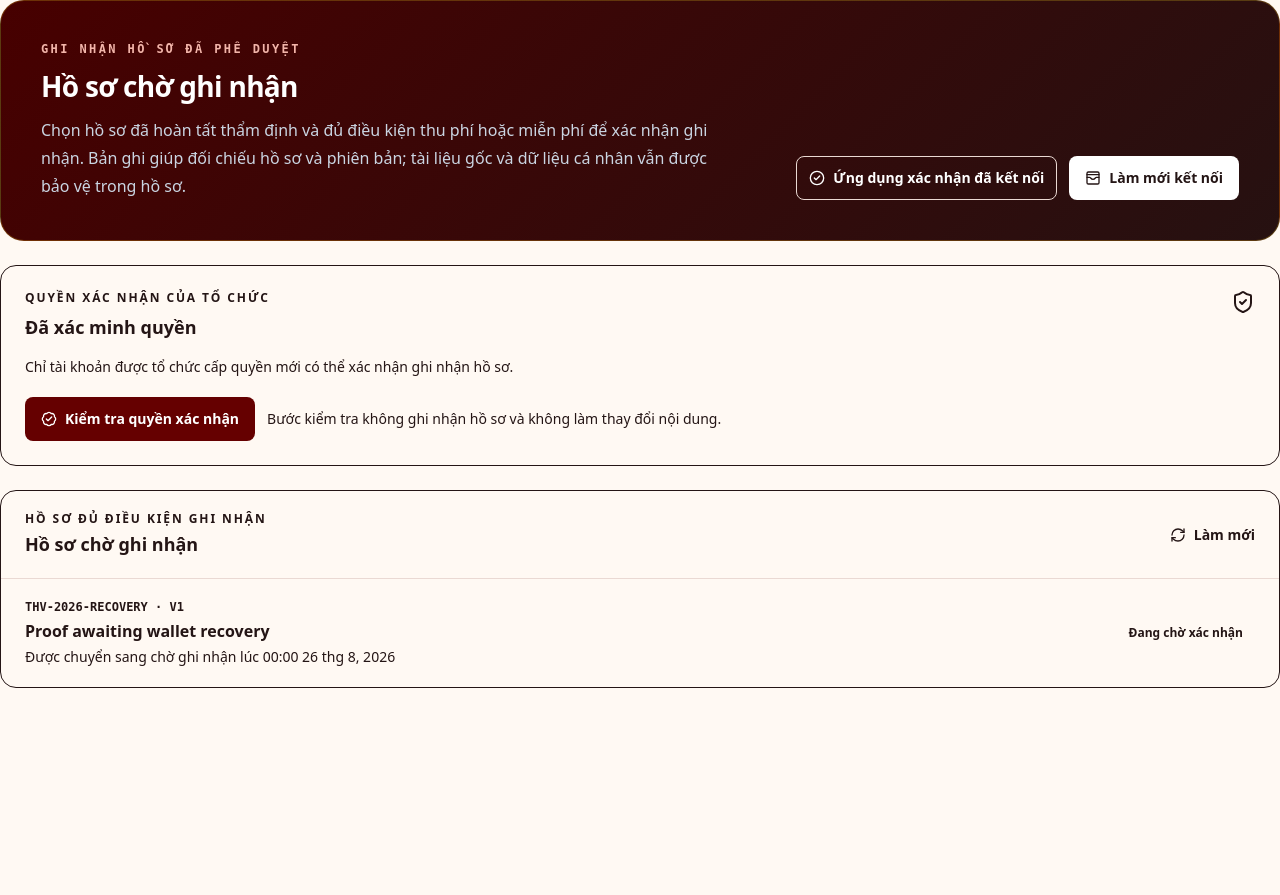
Scenario: BlockchainSigningWorkspace › recovers an already-mined proof after prepare returns a conflict
Click the button "Proof awaiting wallet recovery" at (86, 607), box [1,579,1279,687]
(page scrolled)
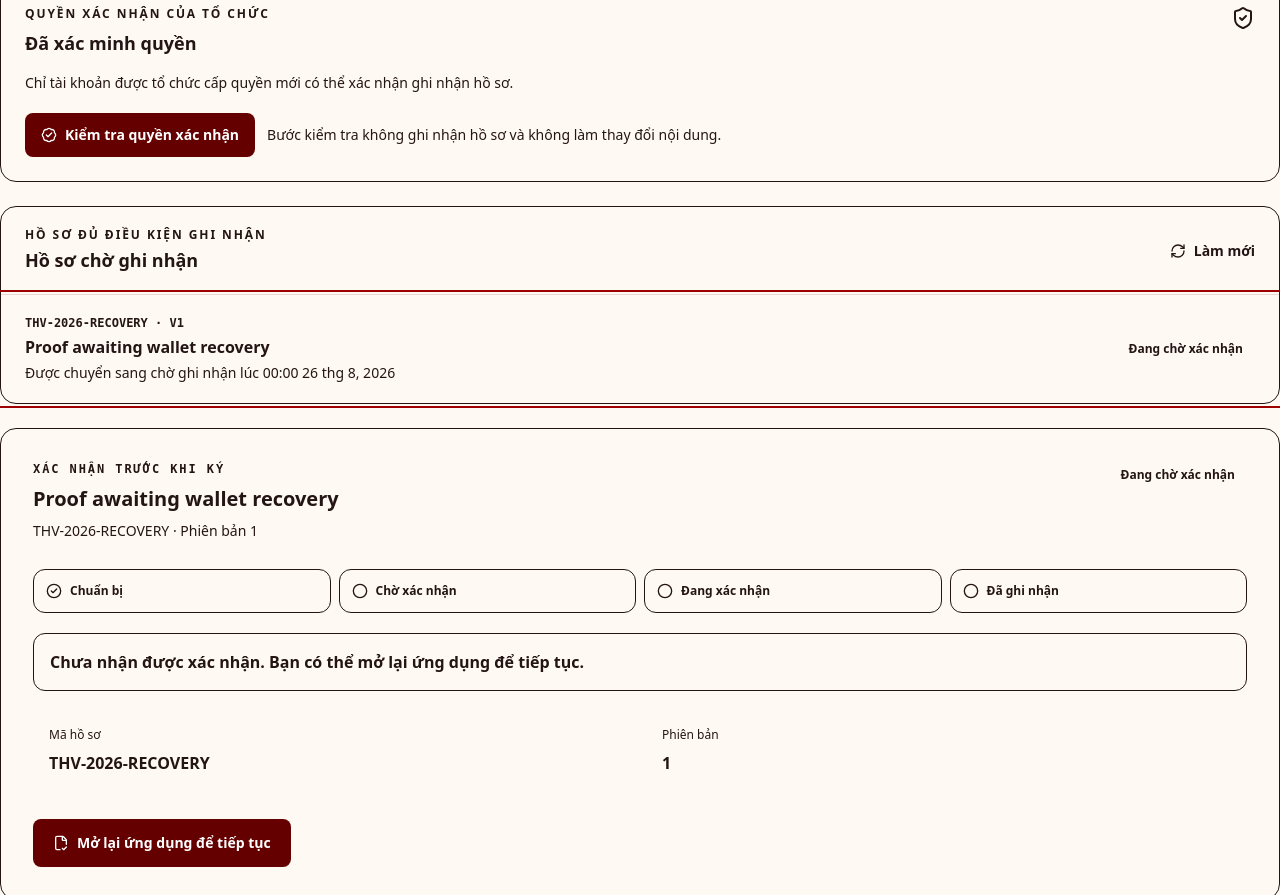
Click the button "Mở lại ứng dụng để tiếp tục" at (162, 843), box [33,819,291,867]
(page scrolled)
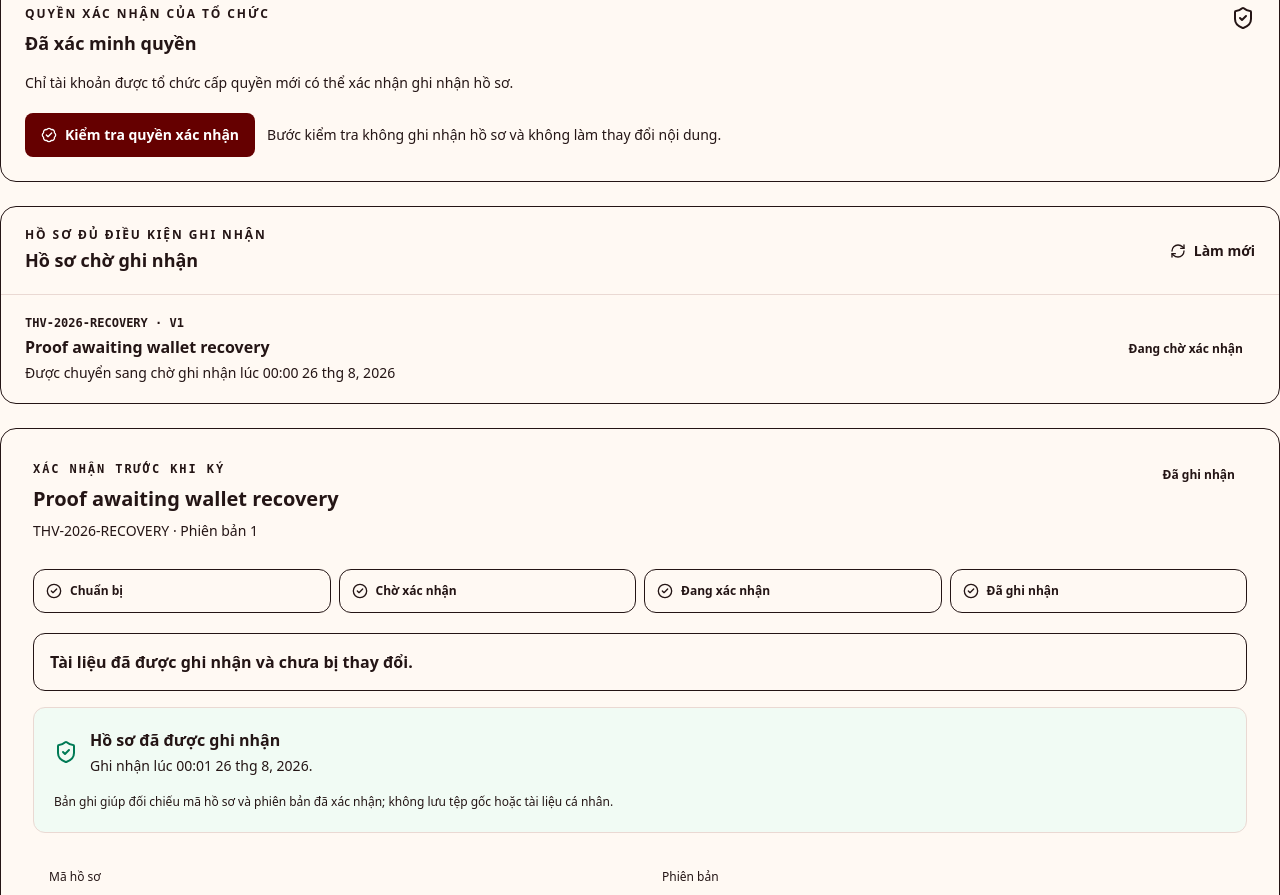
Check: the heading "Hồ sơ đã được ghi nhận" is shown, box [90,728,312,752]
